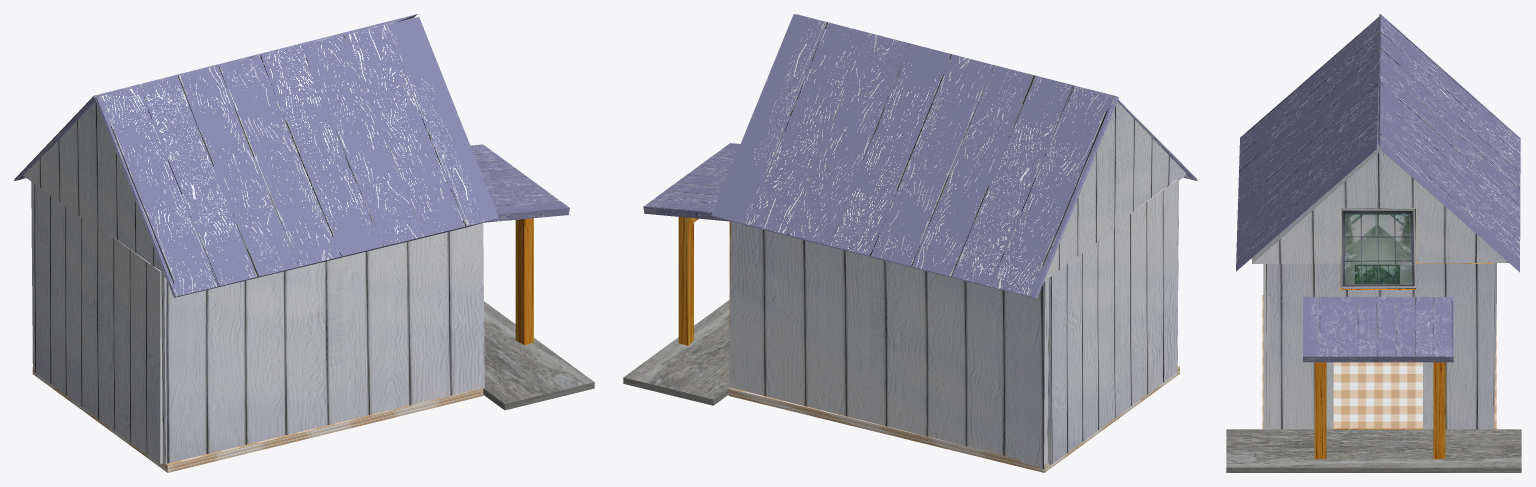
The model's file is Casa.obj.
3 views of the same model, side by side, from view 1: azimuth 30°, elevation 25°; view 2: azimuth 150°, elevation 25°; view 3: azimuth 270°, elevation 25° (orthographic). The views are drawn at different scales.
Parts seen in each view (by area): view 1: fachada8:pCube18 pasted__group3 group7; view 2: fachada8:pCube18 pasted__group3 group7; view 3: fachada8:pCube18 pasted__group3 group7.
Part boxes in pixels (bbox=[...]): fachada8:pCube18 pasted__group3 group7: bbox=[14, 14, 594, 472]; fachada8:pCube18 pasted__group3 group7: bbox=[623, 14, 1197, 472]; fachada8:pCube18 pasted__group3 group7: bbox=[1226, 14, 1521, 472].
Bounding box in the file's own units: 18.11 × 13.27 × 12.36.
24 materials, 23 textured.
